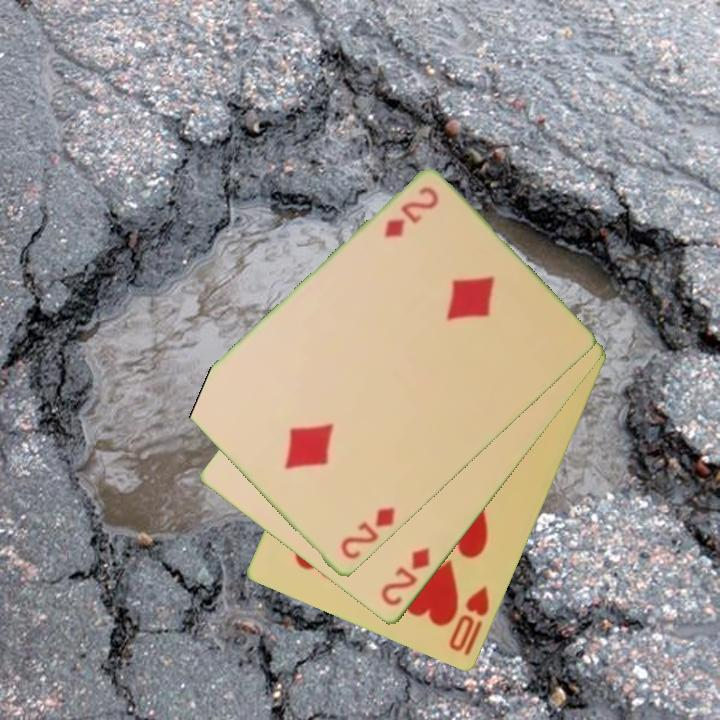10h: (445, 583, 493, 659)
2d: (377, 543, 434, 610), (380, 183, 442, 242), (337, 504, 398, 563)
